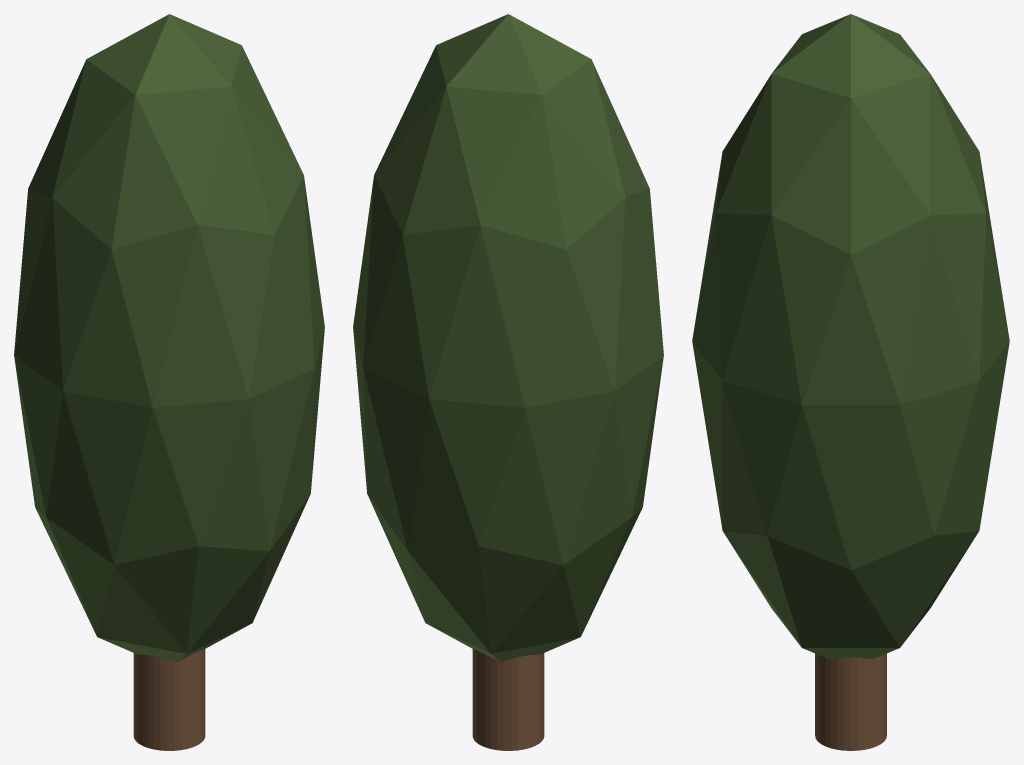
Rendered from tree.obj.
3 renders of one model, left to right at view 1: azimuth 30°, elevation 25°; view 2: azimuth 150°, elevation 25°; view 3: azimuth 270°, elevation 25°, orthographic.
Visible parts, largest first — view 1: Icosphere_Icosphere.002, Cylinder; view 2: Icosphere_Icosphere.002, Cylinder; view 3: Icosphere_Icosphere.002, Cylinder.
Part boxes in pixels (x1,y1,x2,y2): Icosphere_Icosphere.002: (14, 14, 324, 661); Cylinder: (133, 649, 205, 750); Icosphere_Icosphere.002: (353, 14, 663, 661); Cylinder: (472, 649, 544, 750); Icosphere_Icosphere.002: (692, 14, 1009, 659); Cylinder: (815, 653, 886, 750).
Bounding box in the file's own units: 8.42 × 22.19 × 8.85.
